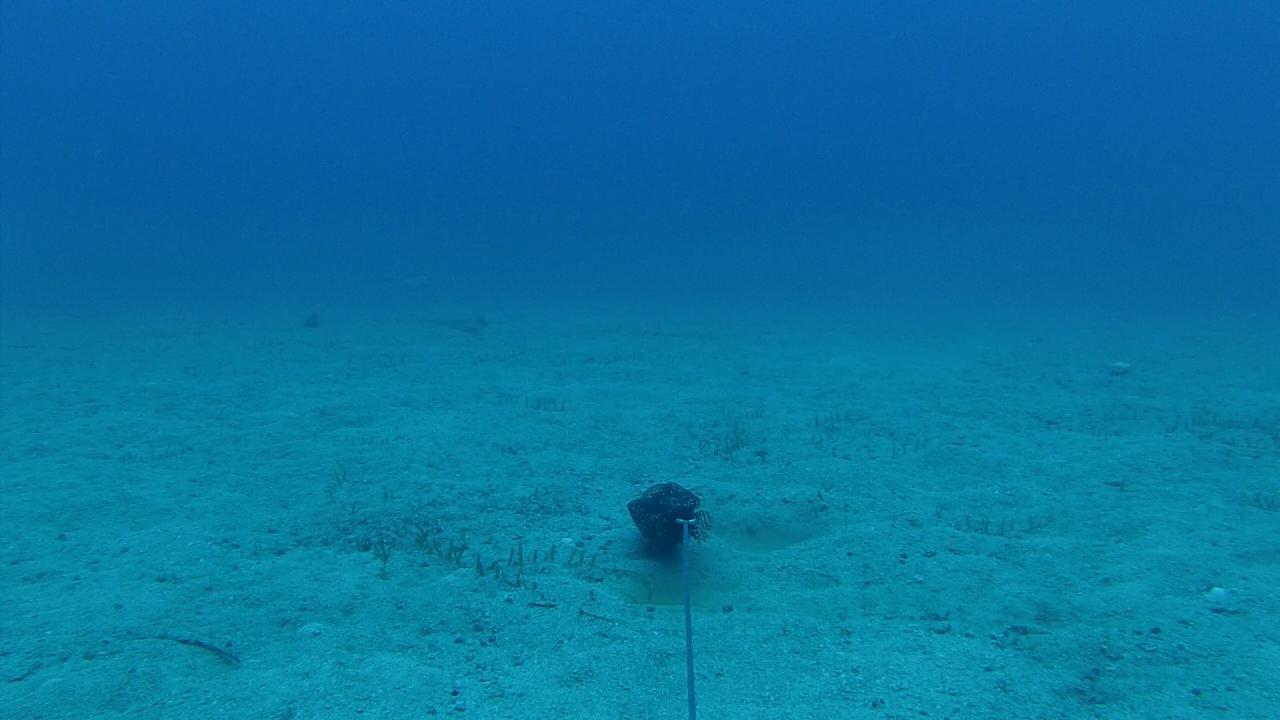bothus: (129, 629, 246, 664)
dasyatis: (416, 313, 488, 336)
